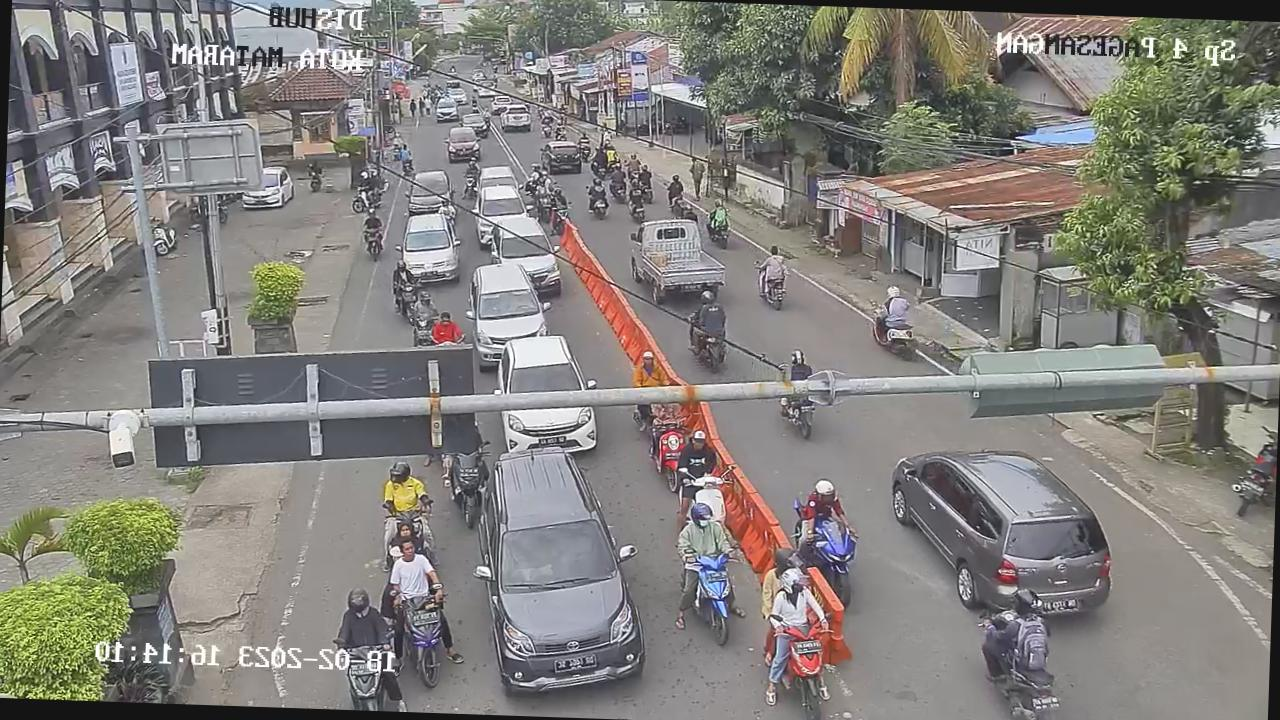car: (473, 437, 664, 699), (884, 448, 1118, 622), (490, 329, 601, 460), (464, 255, 558, 371), (488, 212, 566, 298), (399, 208, 467, 289), (468, 182, 534, 254), (404, 161, 460, 220), (538, 138, 586, 178), (444, 124, 486, 162), (496, 101, 536, 135), (433, 95, 463, 125), (459, 111, 488, 139)
motorcycle: (762, 604, 845, 720), (680, 535, 744, 648), (393, 579, 458, 690), (328, 630, 396, 712), (805, 516, 863, 604), (439, 442, 494, 527), (686, 462, 740, 532), (644, 420, 694, 491), (395, 278, 422, 320), (408, 312, 436, 350), (362, 224, 387, 264), (148, 220, 175, 257), (550, 200, 574, 232), (350, 184, 372, 216), (461, 168, 483, 198)
person: (382, 532, 450, 615), (333, 584, 396, 662), (1000, 588, 1055, 670), (770, 560, 829, 635), (378, 461, 439, 527), (798, 476, 858, 540), (678, 498, 738, 561), (676, 422, 729, 483), (692, 284, 732, 338), (633, 349, 672, 392), (876, 282, 915, 322), (782, 344, 818, 383), (431, 308, 466, 348), (756, 242, 789, 282), (412, 287, 439, 324), (392, 258, 419, 292), (544, 186, 572, 210), (709, 198, 732, 227), (362, 206, 384, 236), (535, 167, 557, 196), (586, 176, 610, 201), (667, 170, 687, 198), (608, 161, 629, 186), (628, 177, 646, 206), (464, 156, 484, 180), (637, 162, 655, 188), (688, 155, 707, 179), (592, 146, 610, 169), (626, 152, 643, 176), (357, 168, 372, 188)
truck: (627, 206, 733, 306)
